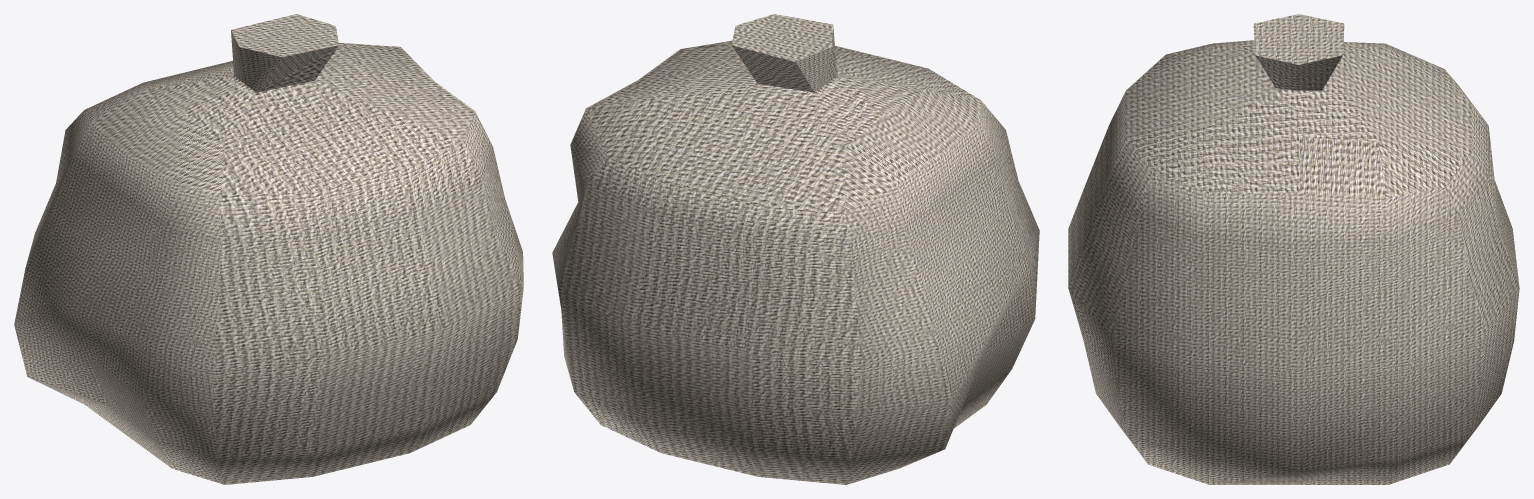
Rendered from mm_bag_3.FBX.
3 renders of one model, left to right at view 1: azimuth 30°, elevation 25°; view 2: azimuth 150°, elevation 25°; view 3: azimuth 270°, elevation 25°, orthographic. The views are drawn at different scales.
Parts seen in each view (by area): view 1: bag03; view 2: bag03; view 3: bag03.
Part boxes in pixels (box(x1,y1,x2,y2)): bag03: box(14, 14, 523, 484); bag03: box(552, 14, 1039, 484); bag03: box(1068, 14, 1519, 484).
Bounding box in the file's own units: 51.57 × 43.79 × 46.03.
Materials: 1 (1 with a texture image).
